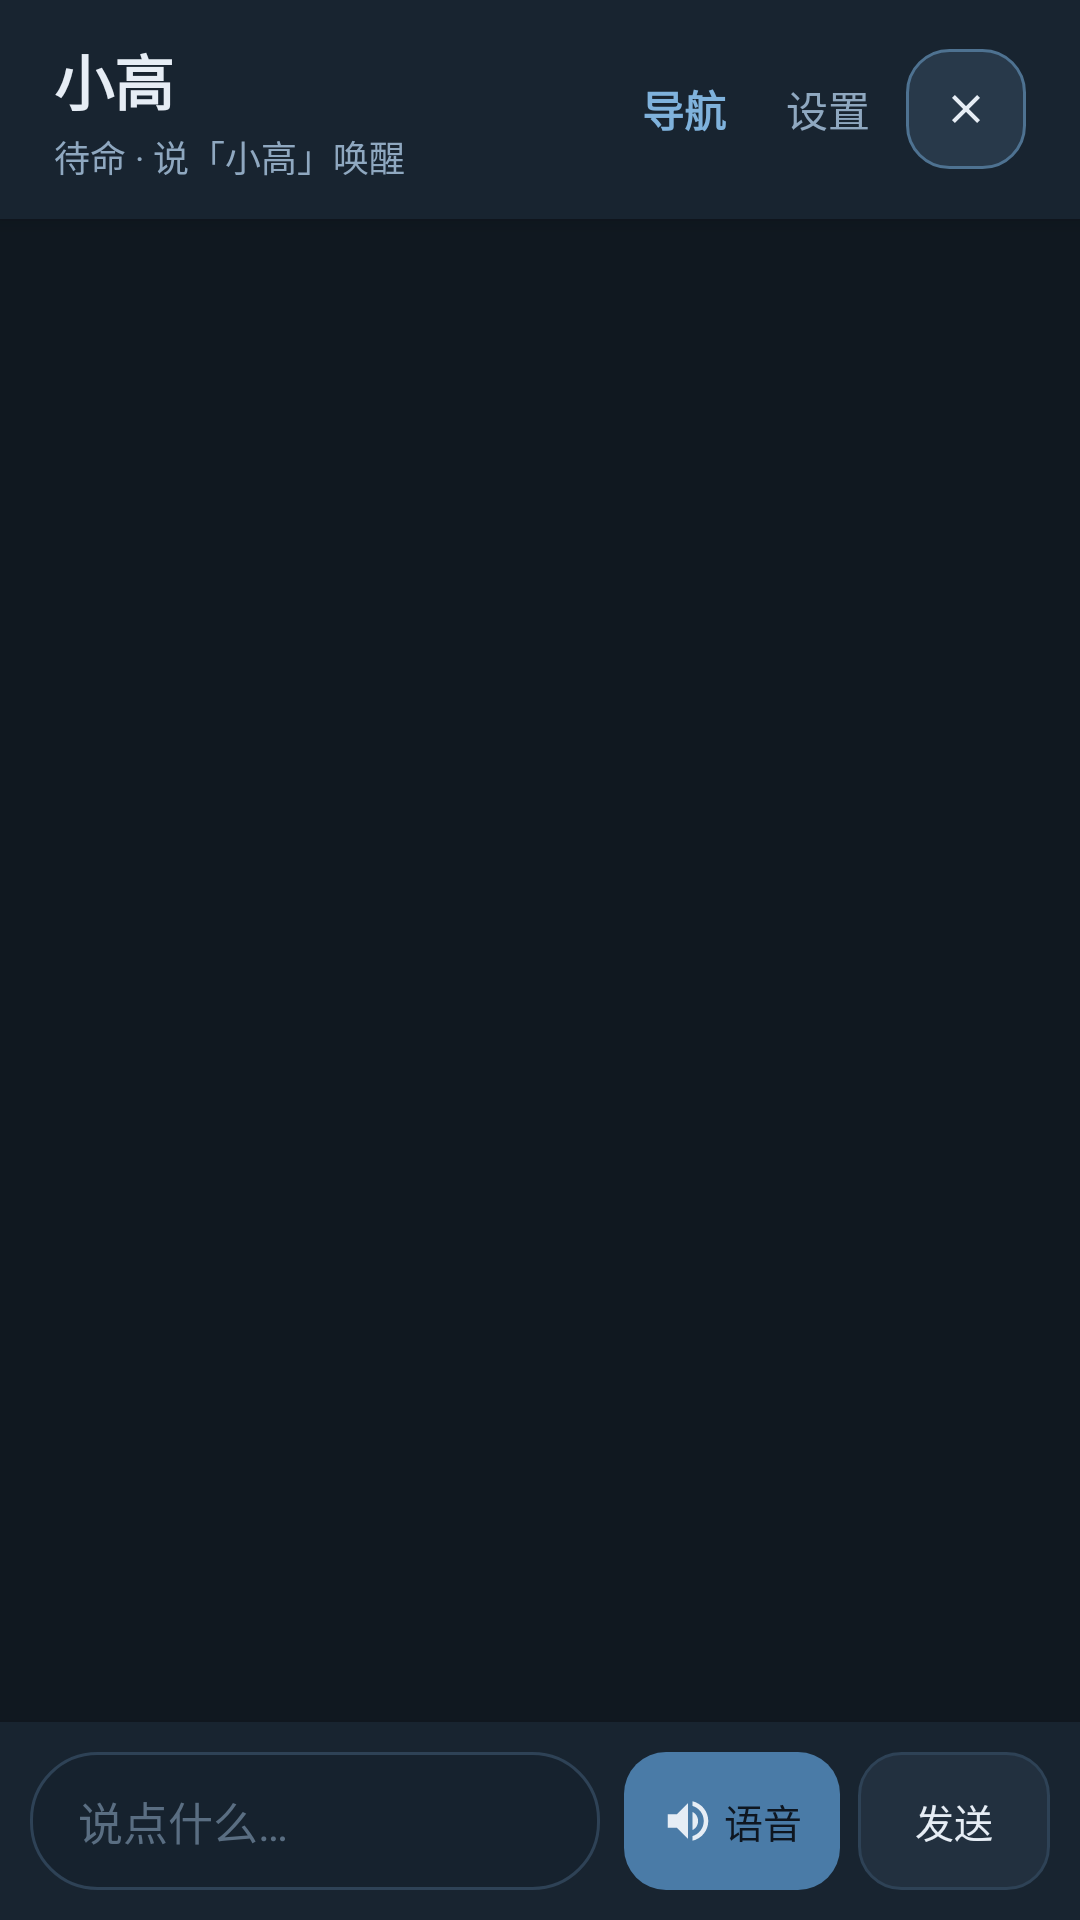

Named icons in this screenshot (1080×1920) and their centers, point (x, y):
退出应用: point (966, 109)
